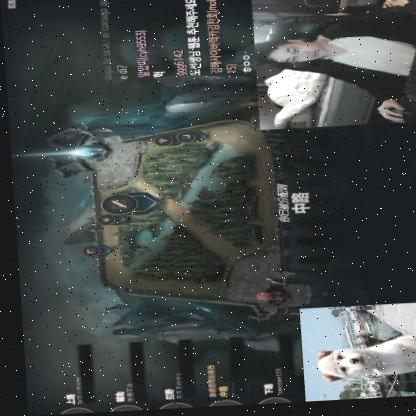streamer: (252, 21, 416, 134)
